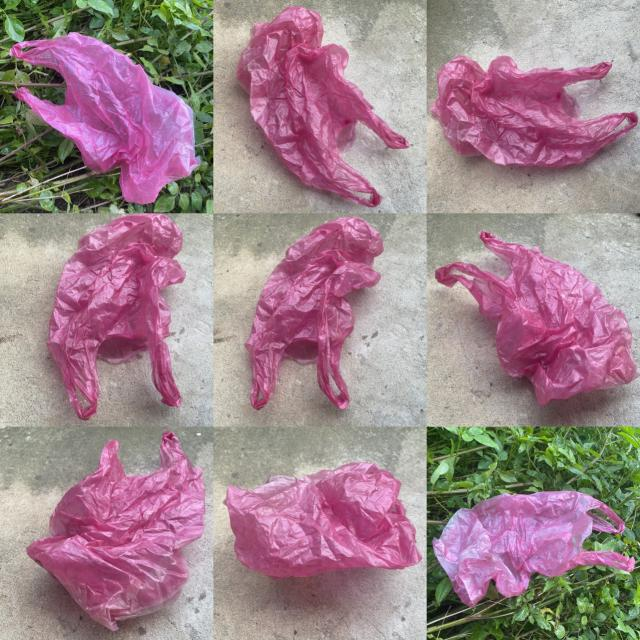Single-layer Plastic: (26, 431, 205, 631), (435, 231, 639, 406), (236, 6, 409, 207), (10, 32, 200, 204), (48, 214, 185, 419), (245, 216, 384, 409), (432, 491, 635, 606), (430, 55, 638, 167), (225, 462, 421, 580)
